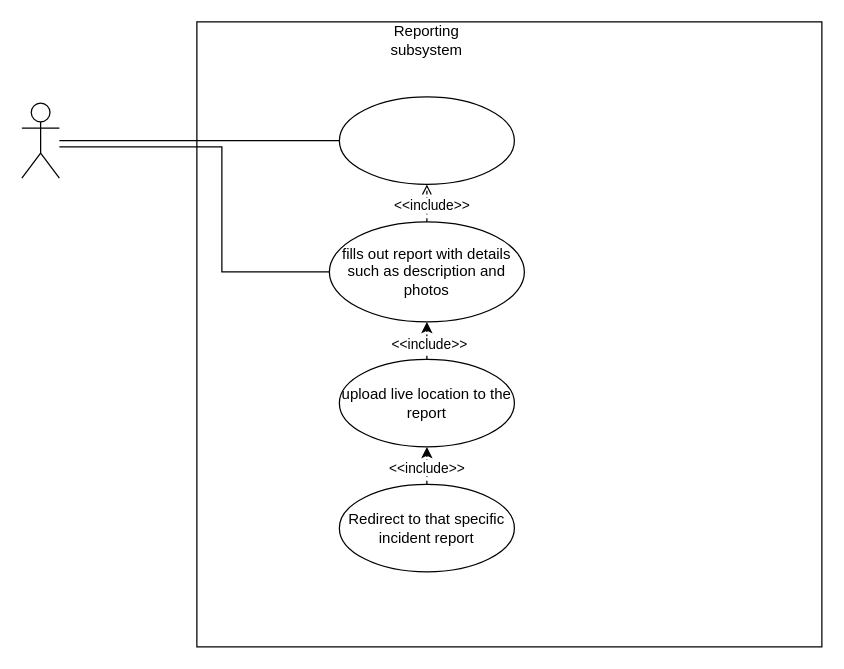
This 844x669 diagram has some shape labels left out. The shapes that lost their labels are listed below. From the top down, each one's centre as x and y in pixels, then its label:
[40,140]: User
[426,140]: choose incident type
